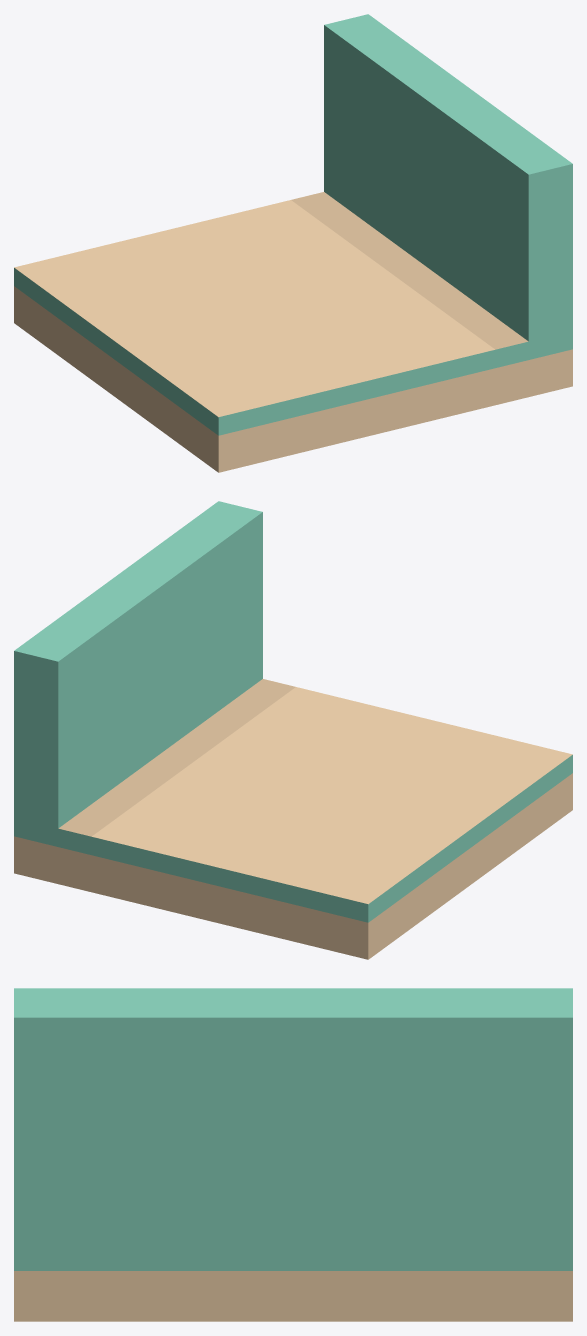
The model's file is SingleBarrier.fbx.
3 renders of one model, top to bottom at view 1: azimuth 30°, elevation 25°; view 2: azimuth 150°, elevation 25°; view 3: azimuth 270°, elevation 25°, orthographic. The views are drawn at different scales.
Parts seen in each view (by area): view 1: tile_straight; view 2: tile_straight; view 3: tile_straight.
Boxes of the visible parts, x1,y1,x2,y2 form: tile_straight: (14, 14, 572, 472); tile_straight: (14, 501, 572, 959); tile_straight: (14, 988, 572, 1321).
Size of the model in its own units: 100 by 60 by 100.
